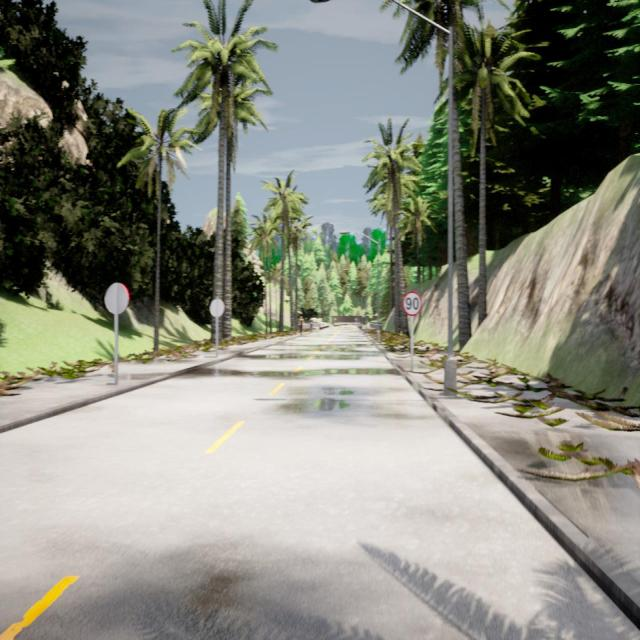Pedestrian: (298, 314, 304, 336), (309, 320, 313, 332)
Traffic_Signs: (104, 282, 130, 314), (402, 292, 423, 316), (209, 298, 225, 318), (354, 317, 358, 321), (334, 317, 336, 321)
